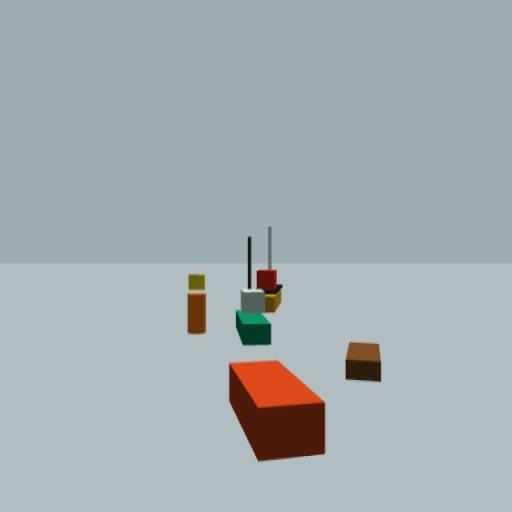buoy: (187, 272, 208, 335)
debris_container: (227, 360, 326, 462), (344, 342, 384, 385)
fishing_boat: (236, 235, 272, 347)
vessel: (255, 226, 282, 314)
